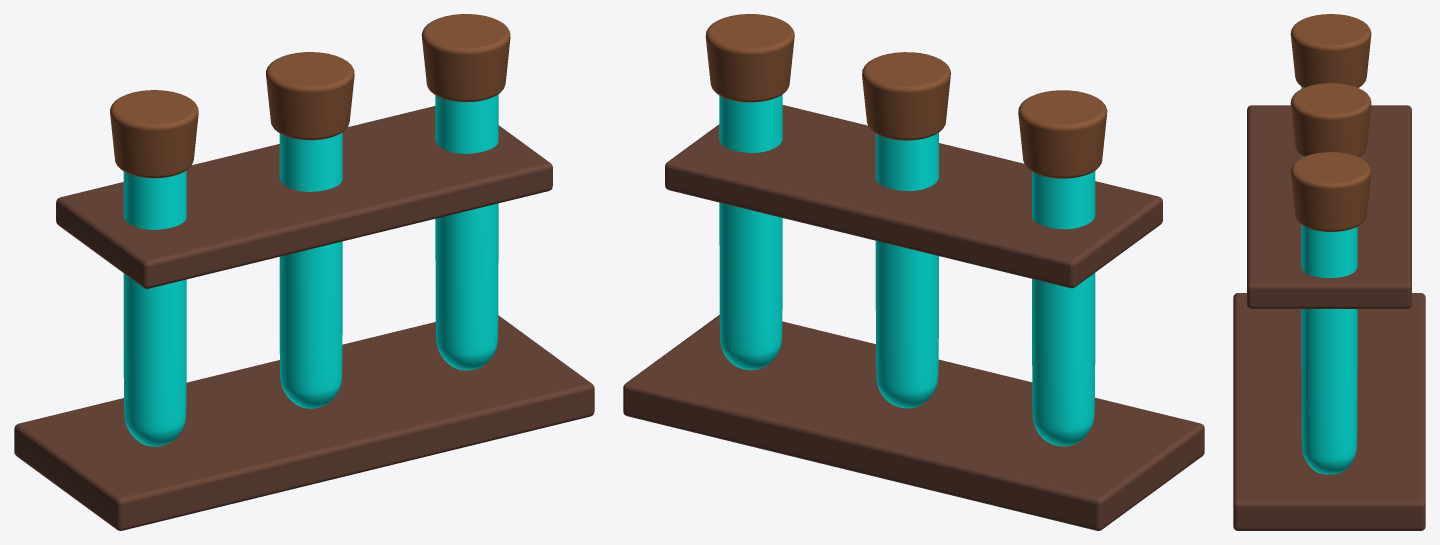
The picture shows the model from 3 angles, left to right: view 1: azimuth 30°, elevation 25°; view 2: azimuth 150°, elevation 25°; view 3: azimuth 270°, elevation 25°; orthographic projection. The views are drawn at different scales.
Visible parts, largest first — view 1: test_tube; view 2: test_tube; view 3: test_tube.
Part boxes in pixels (box(x1,y1,x2,y2)): test_tube: box(14, 14, 594, 530); test_tube: box(623, 14, 1204, 530); test_tube: box(1233, 14, 1425, 530).
Bounding box in the file's own units: 73.06 × 53.33 × 28.1.
